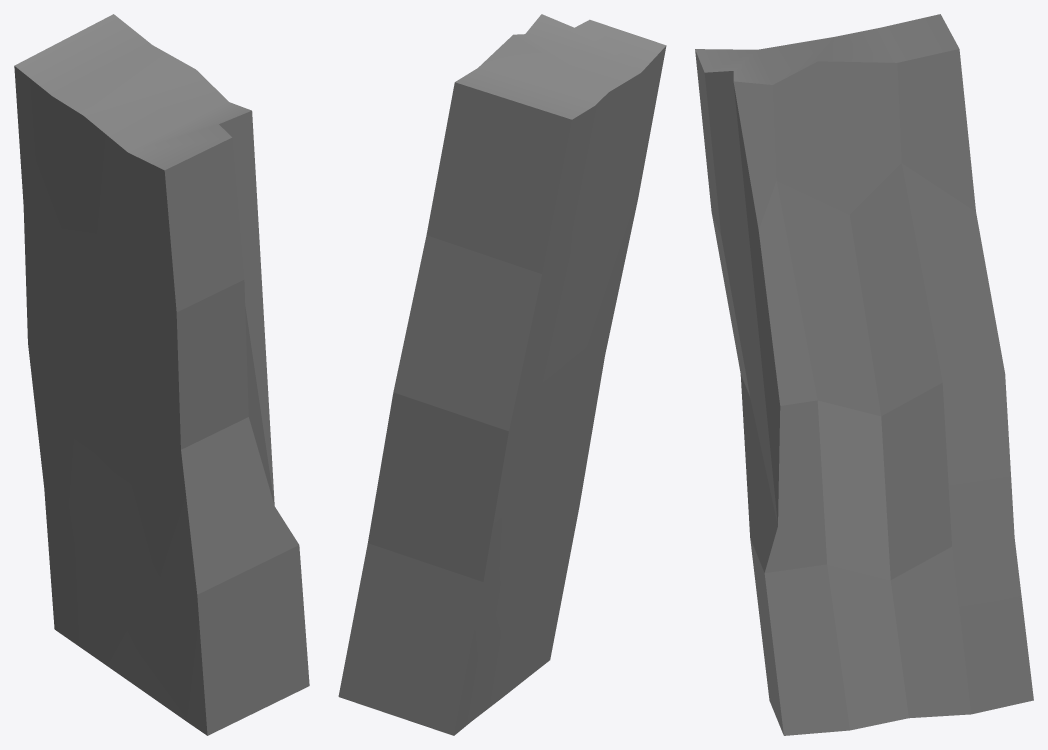
Rendered from Fixed Mesh 20.fbx.
3 renders of one model, left to right at view 1: azimuth 30°, elevation 25°; view 2: azimuth 150°, elevation 25°; view 3: azimuth 270°, elevation 25°, orthographic.
Parts seen in each view (by area): view 1: Collapsed.087; view 2: Collapsed.087; view 3: Collapsed.087.
Part boxes in pixels (<box>): Collapsed.087: <box>14,14,309,735</box>; Collapsed.087: <box>338,14,666,735</box>; Collapsed.087: <box>695,14,1033,735</box>.
Bounding box in the file's own units: 136 × 392 × 184.
